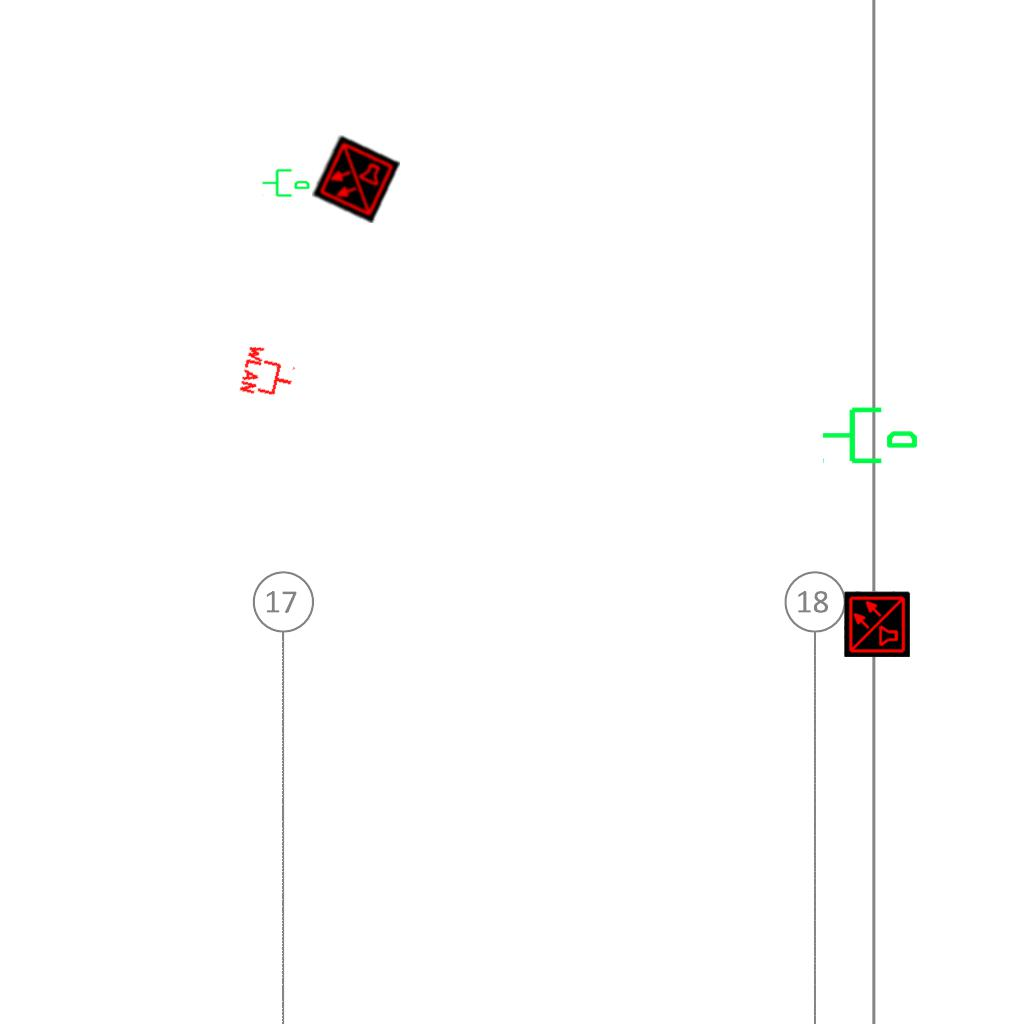Datenanschluss_einfach: (820, 399, 920, 468), (261, 165, 311, 199)
OKW_Multisensormelder_(Kombination_optischer_Rauch-Kahlenmonoxid_Waerme-Melder): (312, 135, 400, 223), (844, 591, 910, 657)
WLAN: (237, 341, 301, 405)
